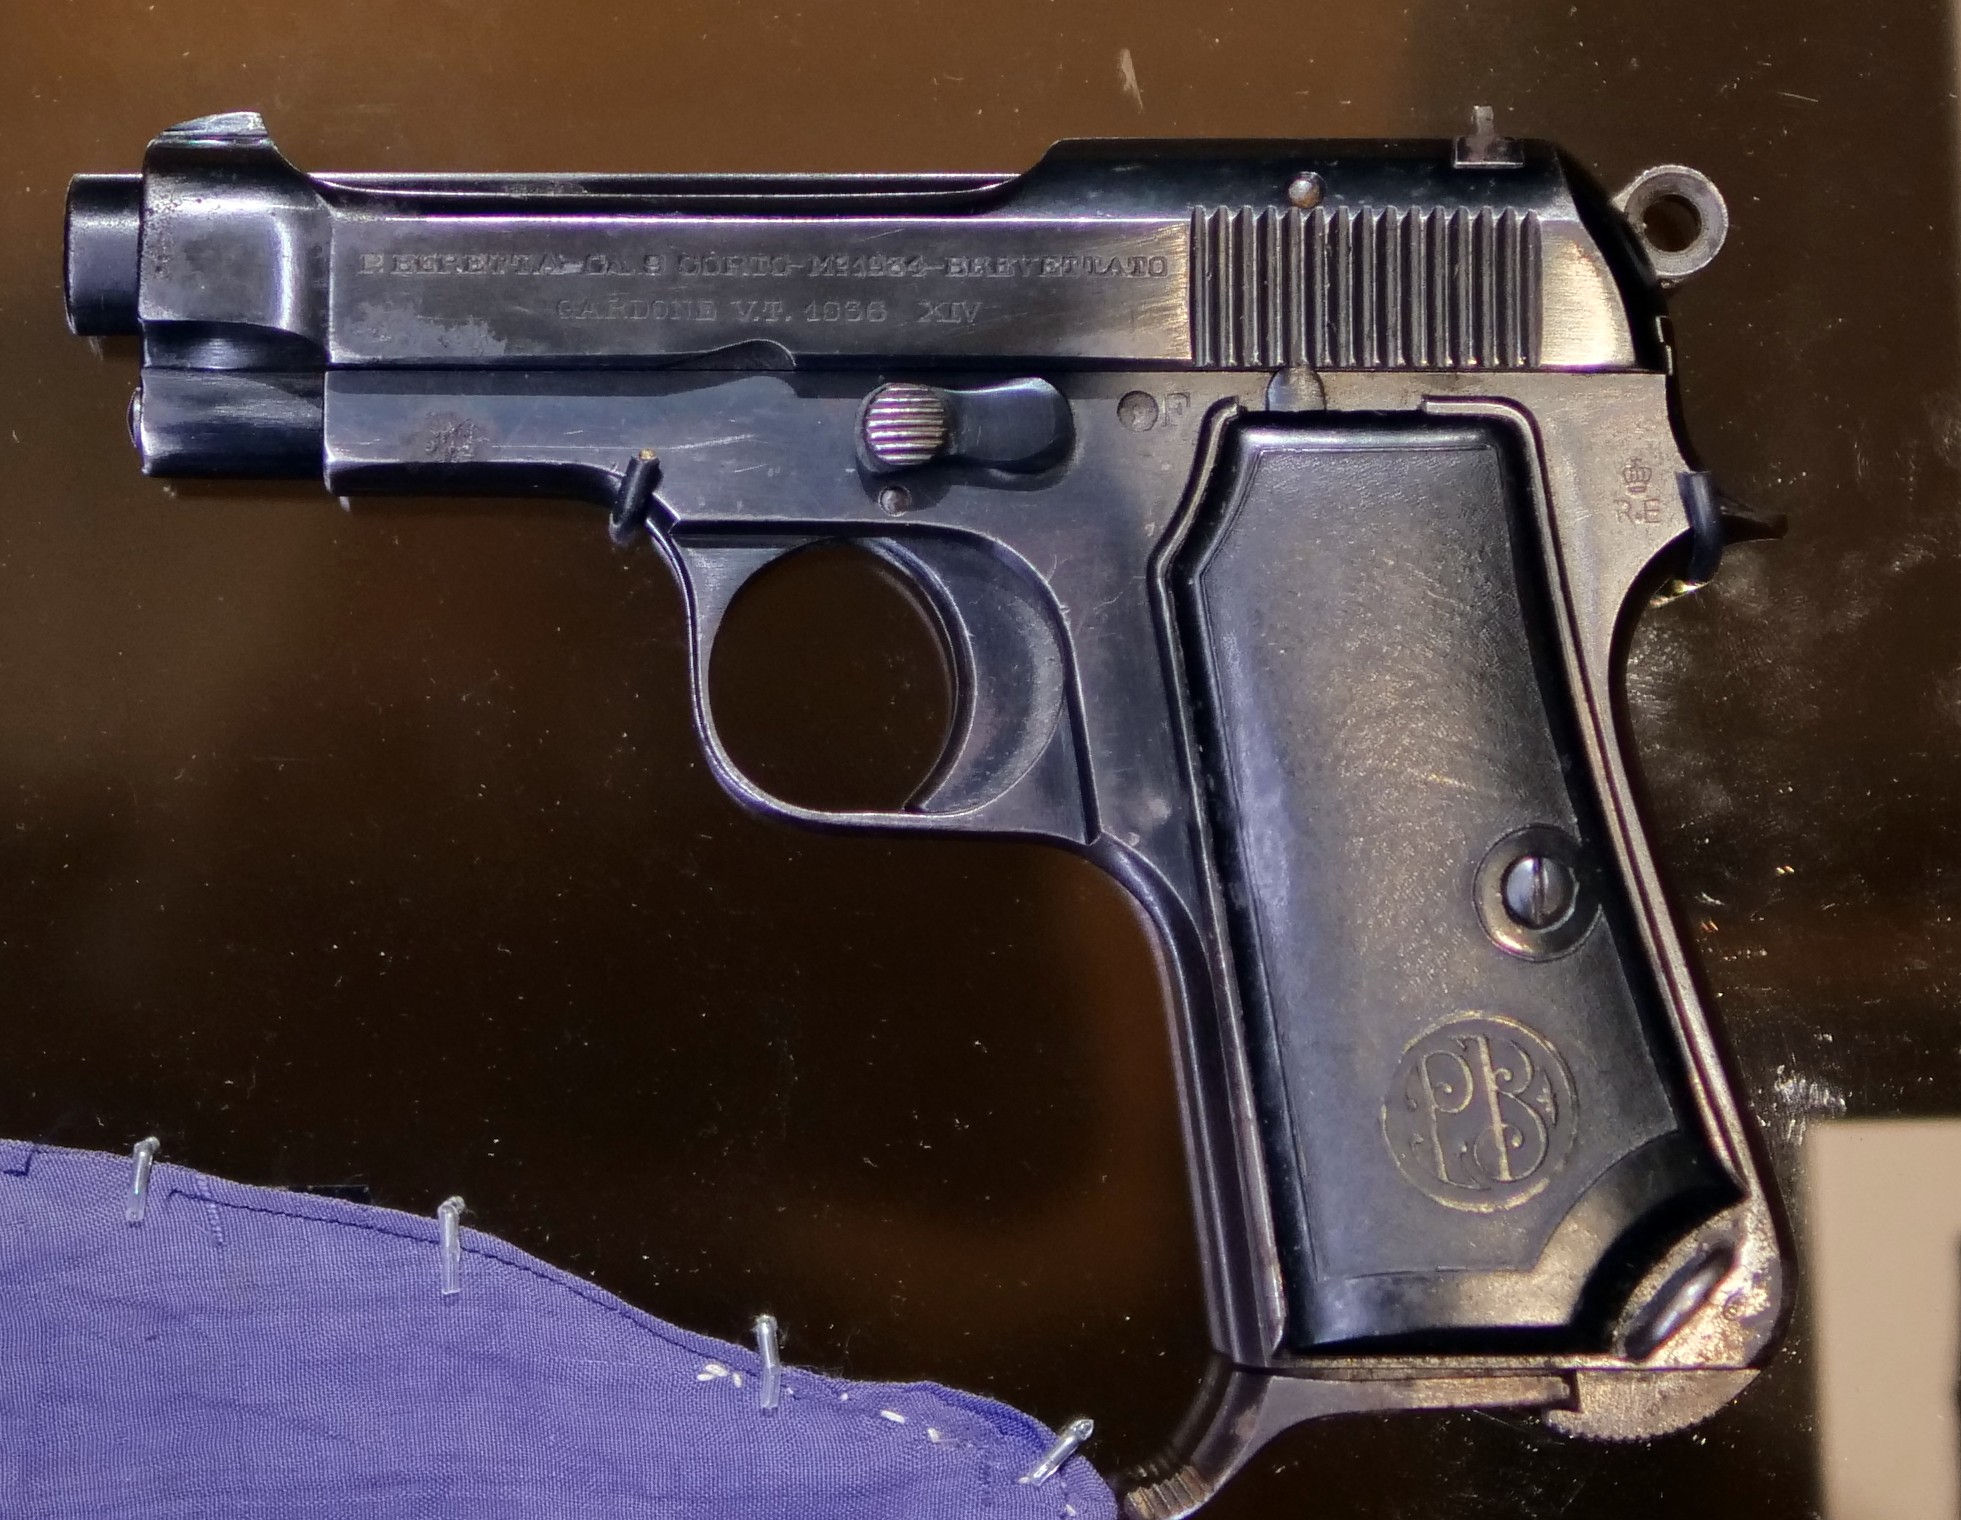gun: (48, 94, 1810, 1515)
